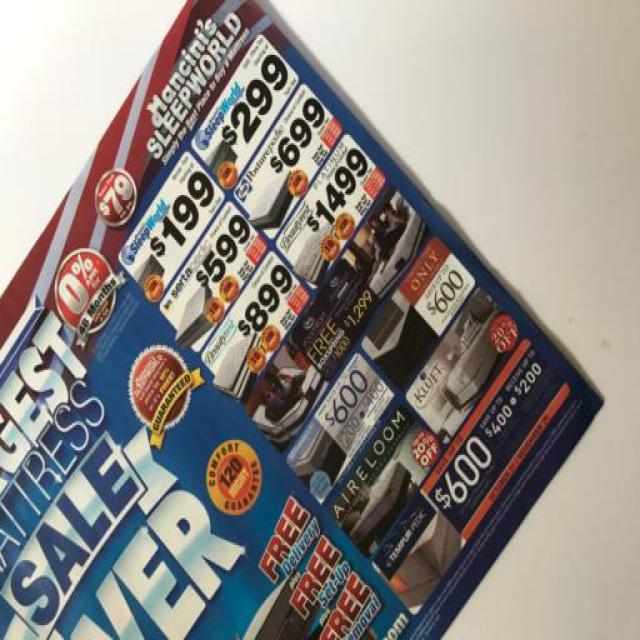paper: (0, 0, 605, 638)
